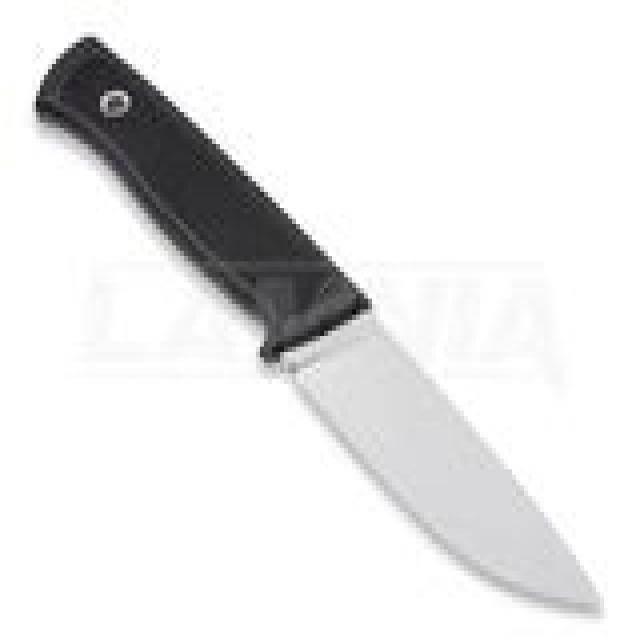Knife: (13, 22, 607, 615)
